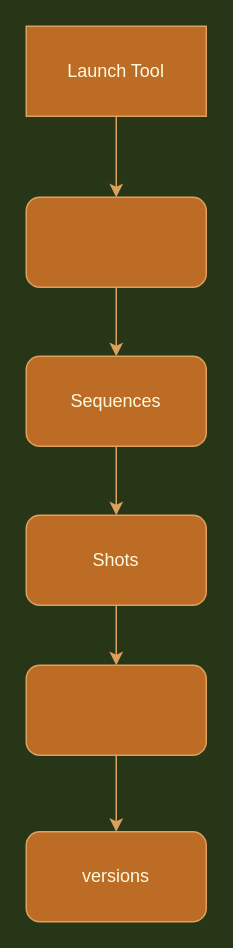
This 233x948 diagram has some shape labels left out. The centre of each missing label's shape, as x and y in pixels:
"Projects" belongs at point (115, 241).
"Tasks" belongs at point (115, 709).
